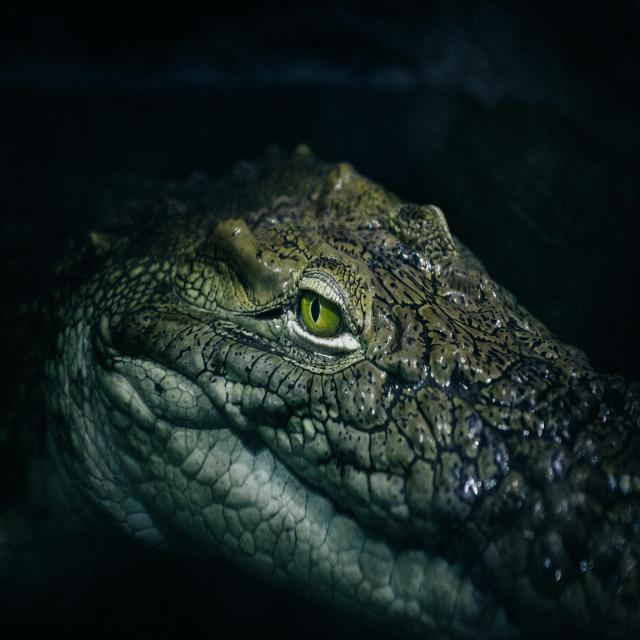crocodile: (1, 150, 640, 629)
